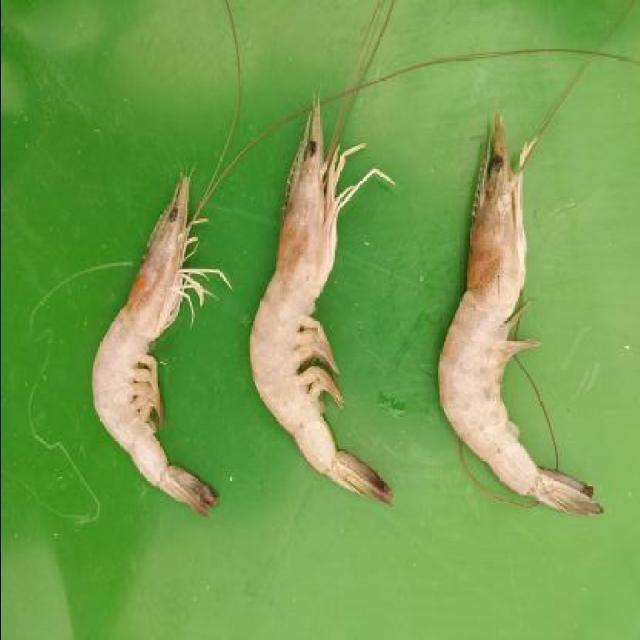shrimp: (440, 122, 573, 509), (253, 111, 373, 495), (92, 191, 207, 507)
